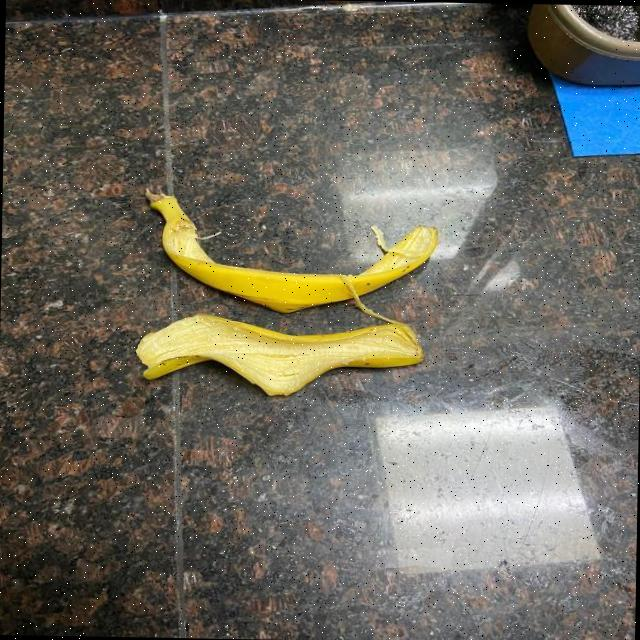banana-peel: (140, 185, 438, 316), (134, 309, 424, 399)
